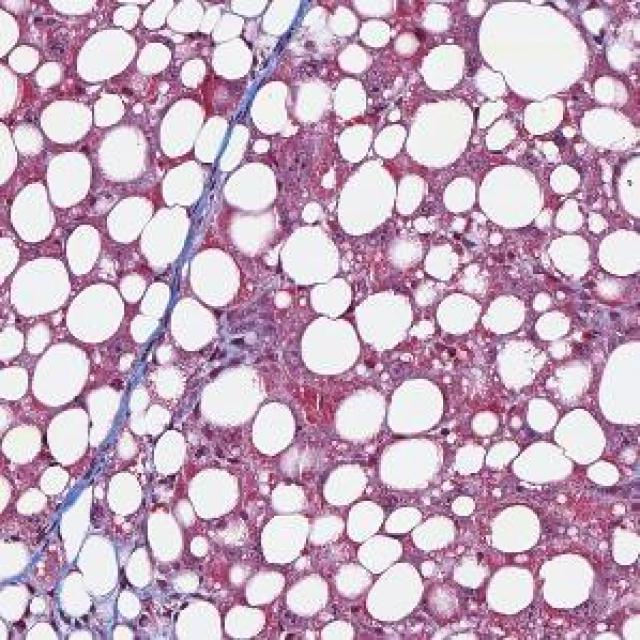fibrosis: (204, 82, 248, 202)
